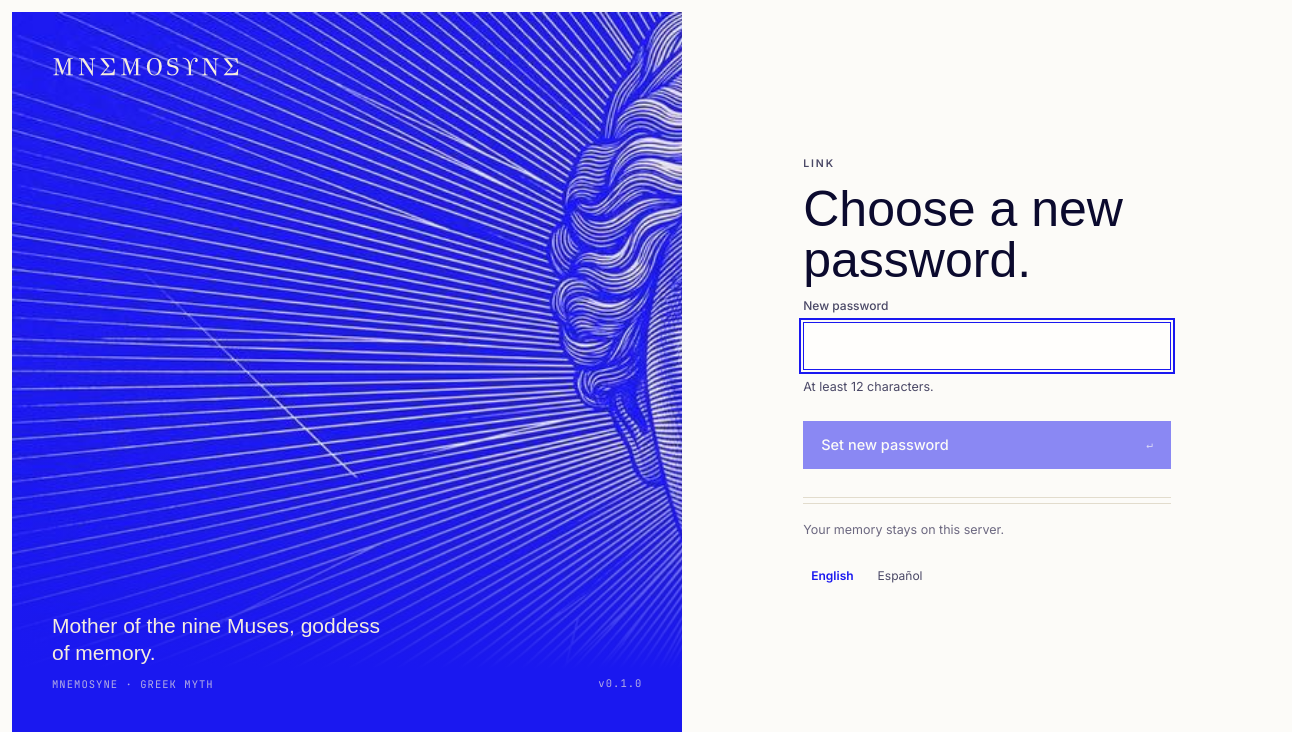
Test: link page › password reset shows the policy error from the server in the form
Type "short" into the password field labelled "New password" at (987, 346), box [803, 322, 1171, 370]
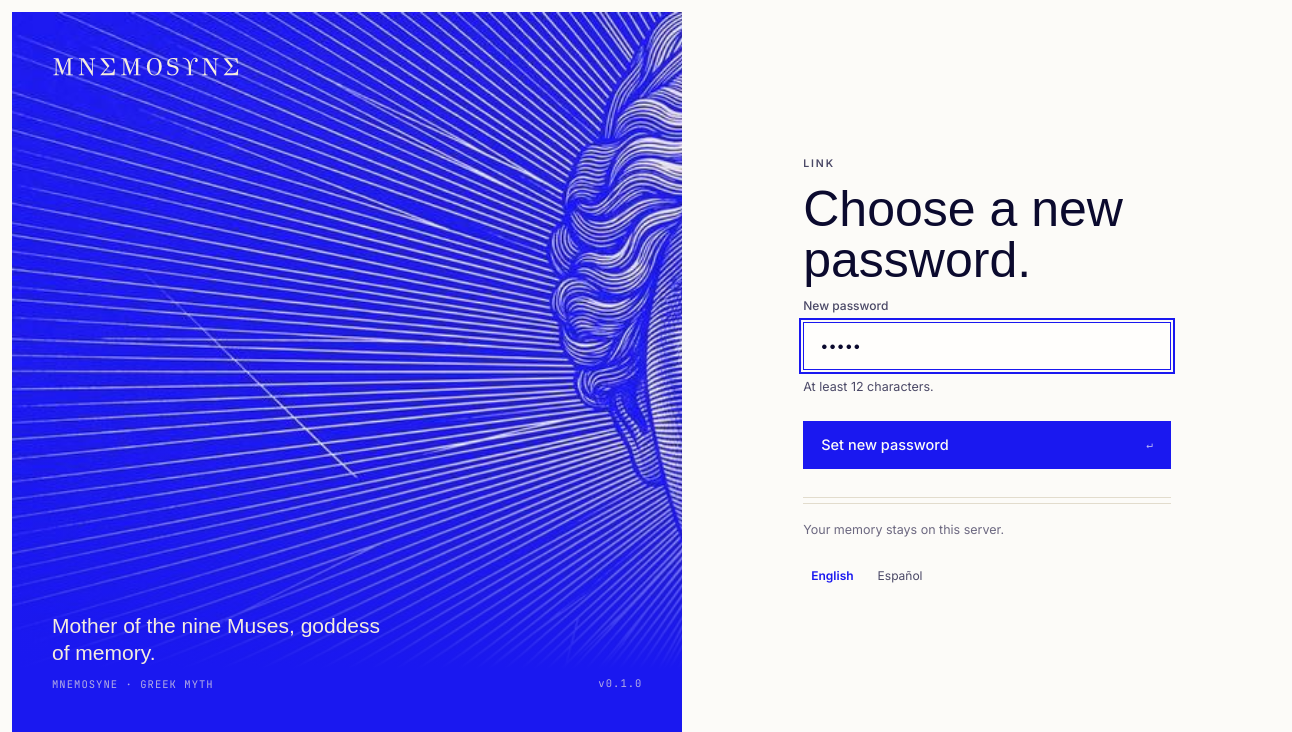
Click the button "Set new password ↵" at (885, 444), box [803, 421, 1171, 469]
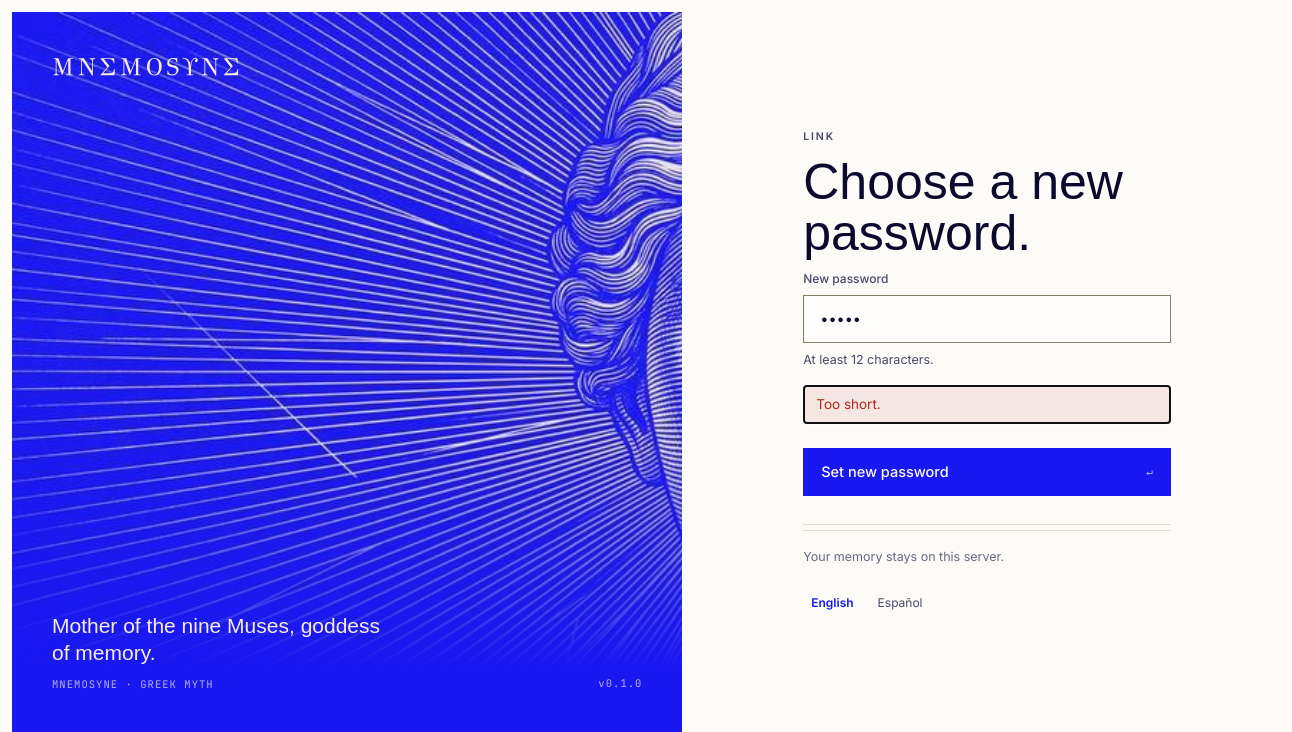
Expected: the form is shown, [803, 271, 1171, 496]
Expected: the message reads "Too short.", [816, 396, 881, 412]
